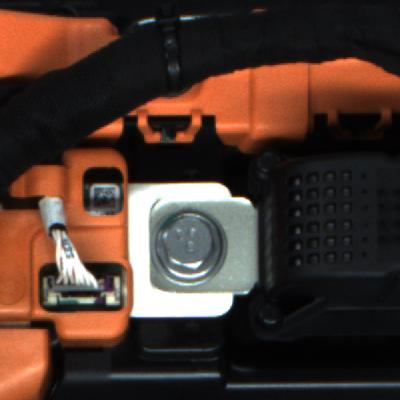nut_b: (147, 210, 231, 291)
